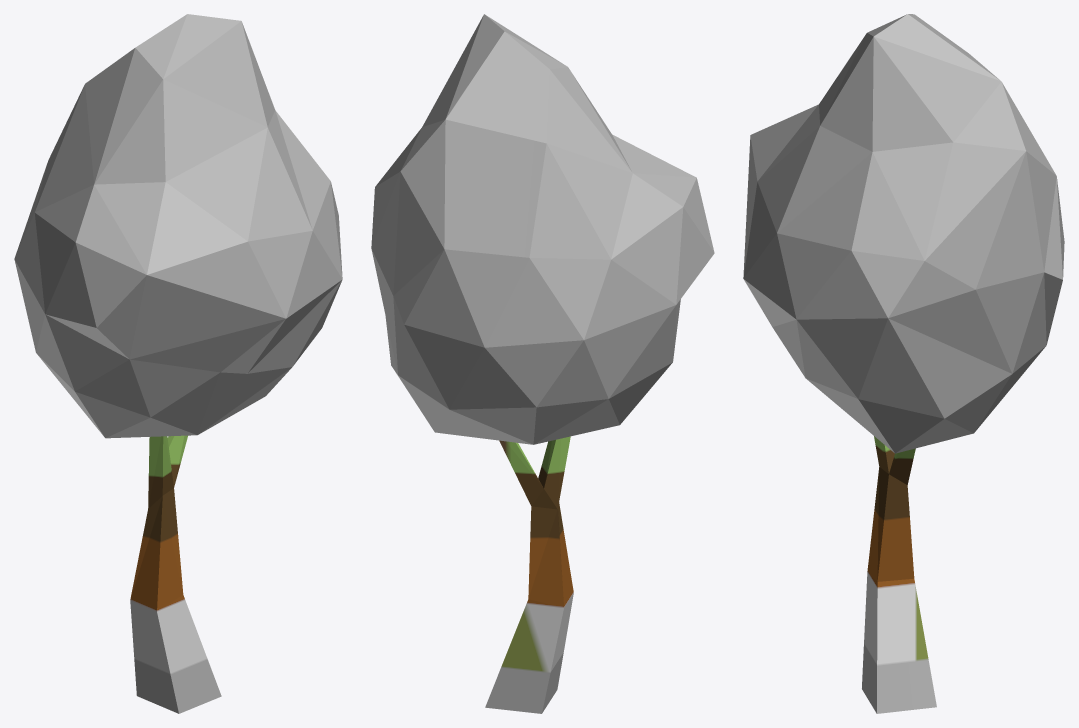
File: Tree_13.fbx
The picture shows the model from 3 angles, left to right: view 1: azimuth 30°, elevation 25°; view 2: azimuth 150°, elevation 25°; view 3: azimuth 270°, elevation 25°; orthographic projection. The views are drawn at different scales.
Visible parts, largest first — view 1: Tree_13; view 2: Tree_13; view 3: Tree_13.
Boxes of the visible parts, x1,y1,x2,y2 form: Tree_13: [14, 14, 342, 713]; Tree_13: [371, 14, 714, 713]; Tree_13: [743, 14, 1064, 713].
Size of the model in its own units: 2.74 by 5.89 by 2.49.
